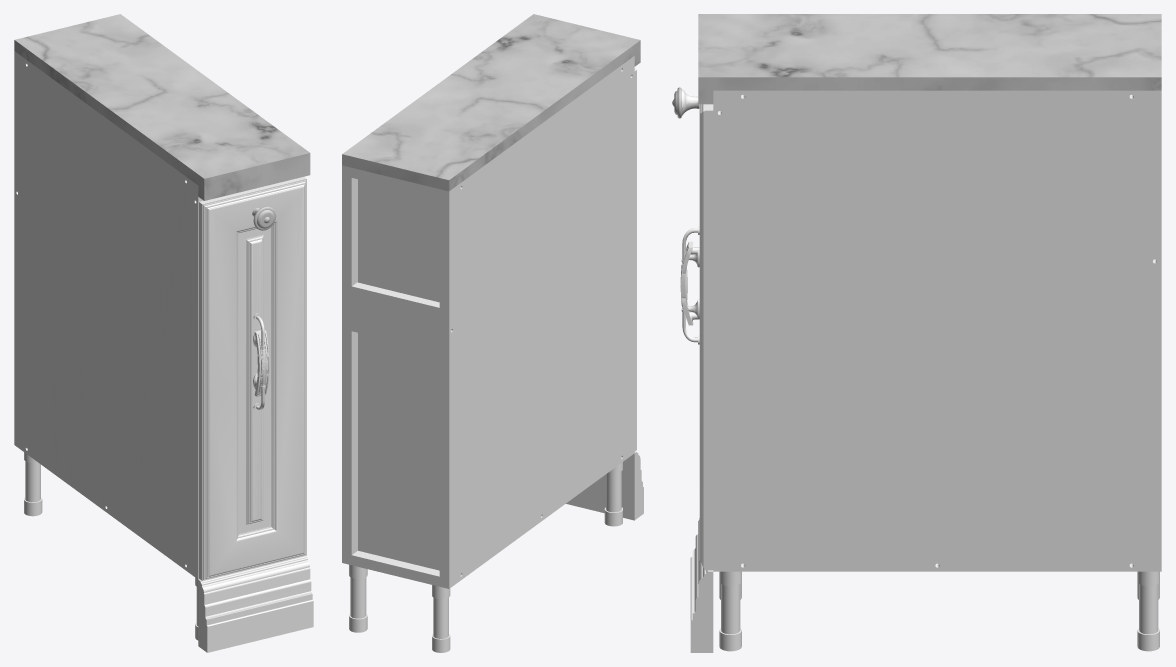
The model's file is BBK 020X60X85.glb.
3 renders of one model, left to right at view 1: azimuth 30°, elevation 25°; view 2: azimuth 150°, elevation 25°; view 3: azimuth 270°, elevation 25°, orthographic. The views are drawn at different scales.
Visible parts, largest first — view 1: BBK_20X60X85_9, CR_11, BBK_20X60X85_10, CR_13, CB1, CR_12, CB4, CB2, BBK_20X60X85_6, Handle_3, Knob_1; view 2: BBK_20X60X85_9, BBK_20X60X85_4, BBK_20X60X85_10, BBK_20X60X85_5, BBK_20X60X85_7, Plint_CB8, BBK_20X60X85_11, BBK_20X60X85_2, BBK_20X60X85_6, CR_11, BBK_20X60X85_1_2, BBK_20X60X85 (+2 smaller); view 3: BBK_20X60X85_5, BBK_20X60X85_10, CR_11, CR_13, CB1, BBK_20X60X85_3, BBK_20X60X85_2, CR_12.
Part boxes in pixels (bbox=[...]): BBK_20X60X85_9: bbox=[14, 51, 203, 579]; CR_11: bbox=[199, 177, 306, 580]; BBK_20X60X85_10: bbox=[14, 14, 310, 200]; CR_13: bbox=[199, 179, 306, 579]; CB1: bbox=[198, 555, 313, 652]; CR_12: bbox=[201, 181, 305, 578]; CB4: bbox=[198, 556, 310, 650]; CB2: bbox=[198, 580, 312, 651]; BBK_20X60X85_6: bbox=[24, 452, 42, 516]; Handle_3: bbox=[254, 330, 269, 396]; Knob_1: bbox=[252, 206, 276, 230]; BBK_20X60X85_9: bbox=[439, 56, 634, 588]; BBK_20X60X85_4: bbox=[358, 179, 439, 570]; BBK_20X60X85_10: bbox=[342, 14, 640, 191]; BBK_20X60X85_5: bbox=[342, 165, 357, 564]; BBK_20X60X85_7: bbox=[351, 282, 439, 352]; Plint_CB8: bbox=[566, 451, 639, 520]; BBK_20X60X85_11: bbox=[351, 551, 439, 586]; BBK_20X60X85_2: bbox=[349, 564, 367, 632]; BBK_20X60X85_6: bbox=[432, 585, 450, 652]; CR_11: bbox=[634, 69, 636, 451]; BBK_20X60X85_1_2: bbox=[604, 462, 622, 526]; BBK_20X60X85: bbox=[351, 168, 439, 198]; BBK_20X60X85_5: bbox=[713, 90, 1161, 571]; BBK_20X60X85_10: bbox=[698, 14, 1161, 104]; CR_11: bbox=[699, 104, 713, 570]; CR_13: bbox=[700, 104, 704, 568]; CB1: bbox=[690, 518, 713, 652]; BBK_20X60X85_3: bbox=[719, 571, 741, 651]; BBK_20X60X85_2: bbox=[1137, 571, 1159, 651]; CR_12: bbox=[702, 104, 703, 566].
Size of the model in its own units: 20 by 85 by 65.46.
9 materials, 3 textured.
